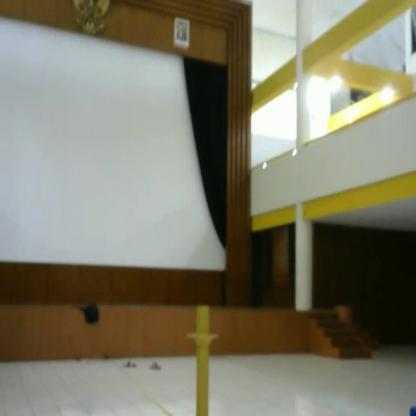pole: (182, 304, 224, 416)
